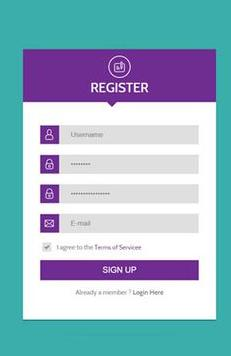button: (38, 259, 202, 282)
checkbox: (41, 243, 54, 252)
checkbox_with_label: (38, 241, 143, 253)
field: (57, 212, 202, 235), (57, 124, 200, 147), (56, 154, 203, 176), (57, 183, 199, 205)
